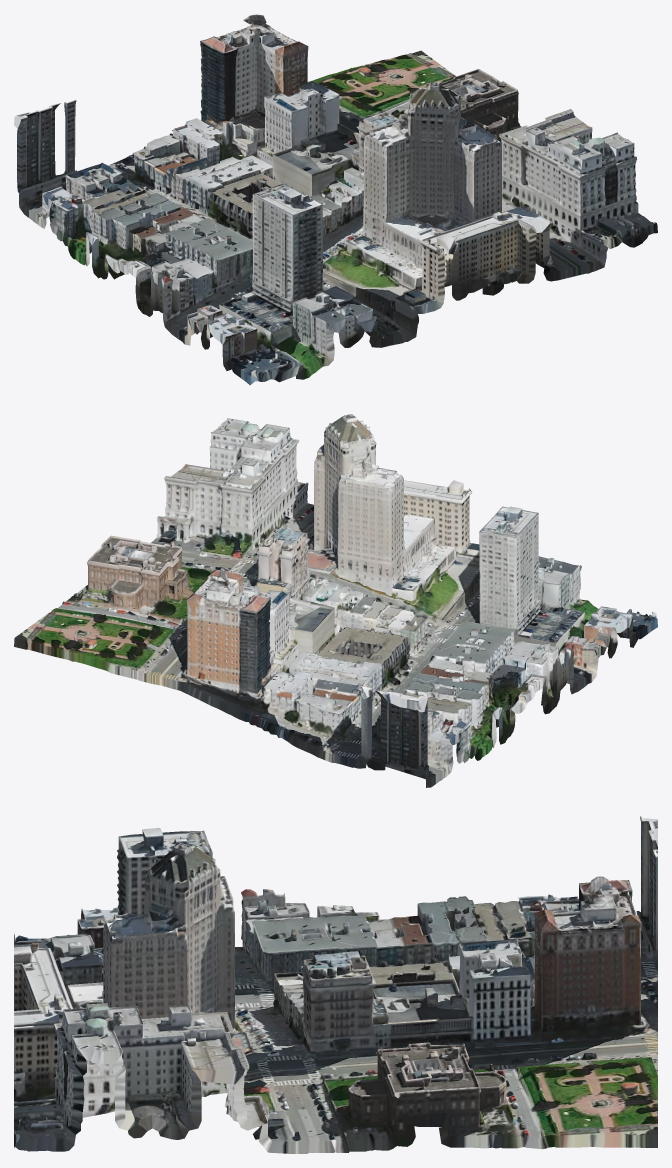
Rendered from z17-20967-50654-h0-yup-uvflip-v3-world.glb.
3 views of the same model, one above another, from view 1: azimuth 30°, elevation 25°; view 2: azimuth 150°, elevation 25°; view 3: azimuth 270°, elevation 25° (orthographic). The views are drawn at different scales.
Size of the model in its own units: 242 by 116 by 243.
1 material, 1 textured.
